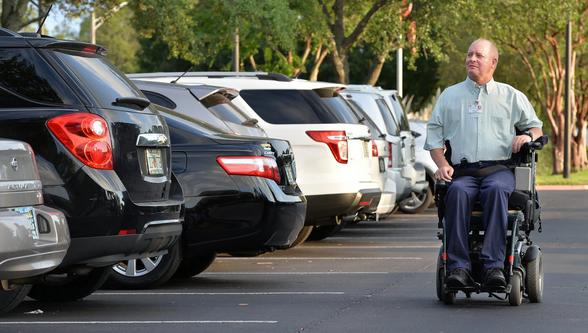wheelchair: (423, 38, 550, 306)
